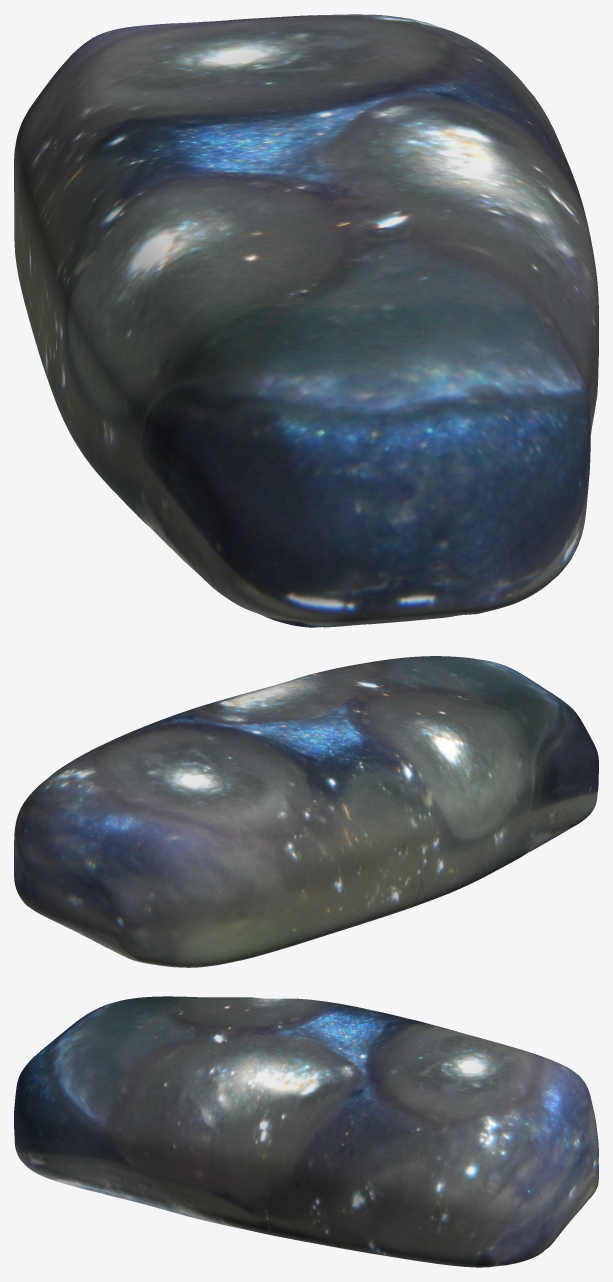
The model's file is blueNail-sub.glb.
3 renders of one model, top to bottom at view 1: azimuth 30°, elevation 25°; view 2: azimuth 150°, elevation 25°; view 3: azimuth 270°, elevation 25°, orthographic. The views are drawn at different scales.
Parts seen in each view (by area): view 1: blue-nail-sub; view 2: blue-nail-sub; view 3: blue-nail-sub.
Boxes of the visible parts, <box> form: blue-nail-sub: <box>14,14,598,627</box>; blue-nail-sub: <box>14,656,598,967</box>; blue-nail-sub: <box>14,996,598,1267</box>.
Size of the model in its own units: 479 by 183 by 680.
1 material, 1 textured.
